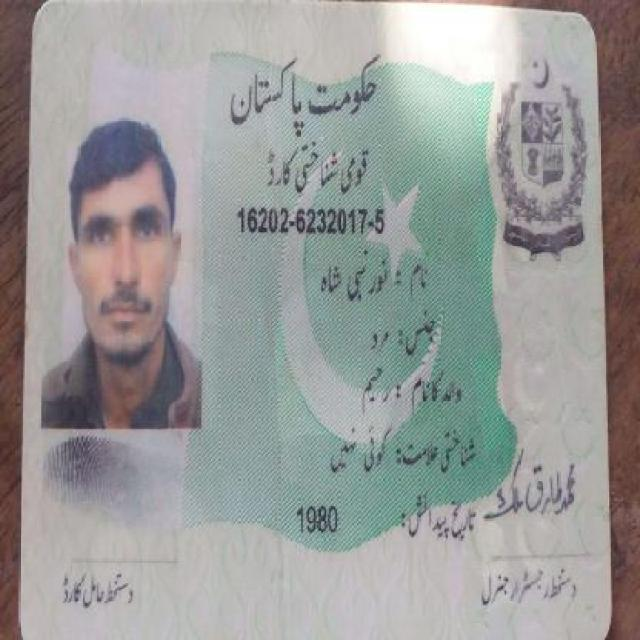Front: (20, 6, 609, 639)
